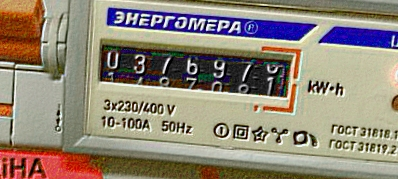0: (104, 48, 121, 71)
1: (264, 75, 274, 97)
3: (132, 53, 147, 75)
6: (184, 53, 201, 77)
7: (158, 52, 174, 76), (238, 58, 254, 82)
9: (211, 57, 227, 80)
screen: (86, 30, 305, 117)
